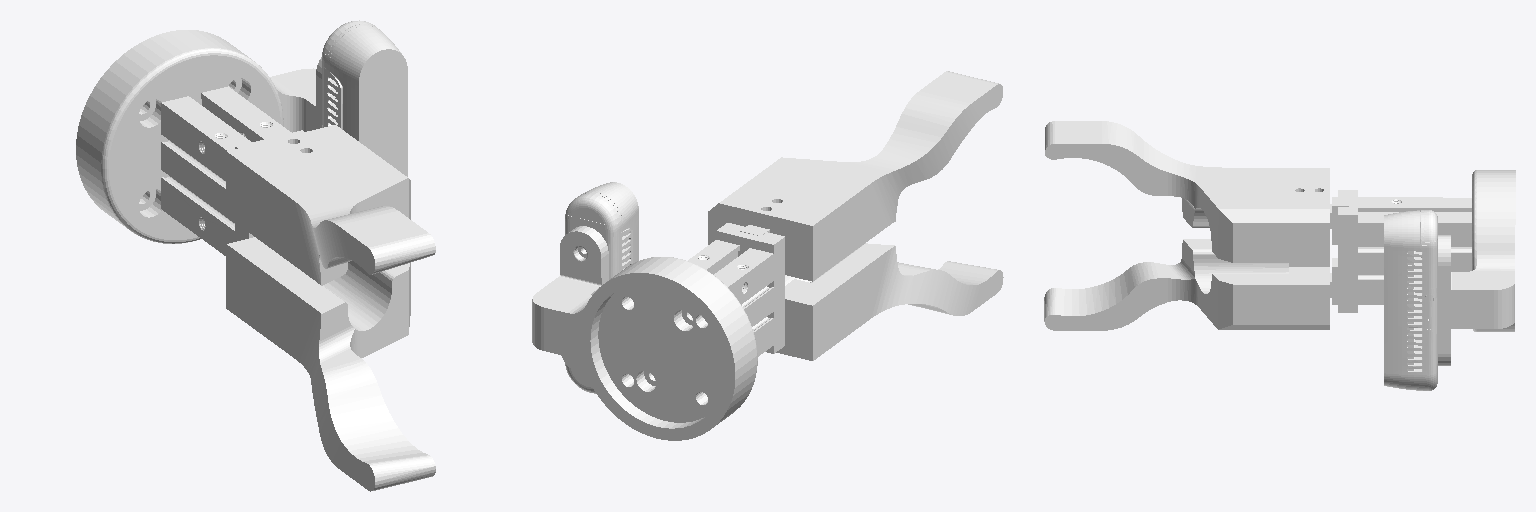
The robot description file, URDF, robot "ec63":
<?xml version="1.0" encoding="utf-8"?>
<robot name="ec63">
    <link name="world" />
    <joint name="world_joint" type="fixed">
        <origin xyz="0 0 0" rpy="0 0 0" />
        <parent link="world" />
        <child link="base_link" />
    </joint>
    <link name="base_link">
    <inertial>
        <origin xyz="6.6025E-05 1.6931E-05 0.036471" rpy="0 0 0" />
        <mass value="0.3647" />
        <inertia ixx="0.00059057" ixy="6.2306E-07" ixz="6.6029E-07" iyy="0.00058934" iyz="-4.8028E-08"
            izz="0.00074656" />
    </inertial>
    <visual>
        <origin xyz="0 0 0" rpy="0 0 0" />
        <geometry>
            <mesh filename="package://elite_description/meshes/ec63/base_link.STL" />
        </geometry>
        <material name="">
            <color rgba="0.79216 0.81961 0.93333 1" />
        </material>
    </visual>
    <collision>
        <origin xyz="0 0 0" rpy="0 0 0" />
        <geometry>
            <mesh filename="package://elite_description/meshes/ec63/base_link.STL" />
        </geometry>
    </collision>
    </link>
    <link name="link1">
    <inertial>
        <origin xyz="-5.9693298609962E-07 0.00718798730554815 0.00130597011750025" rpy="0 0 0" />
        <mass value="1.0468989469595" />
        <inertia ixx="0.00131622835302873" ixy="1.33626024644229E-08" ixz="1.22267487012503E-08"
            iyy="0.00121041697616178" iyz="-0.000167494836949108" izz="0.00140200332966305" />
    </inertial>
    <visual>
        <origin xyz="0 0 0" rpy="0 0 0" />
        <geometry>
            <mesh filename="package://elite_description/meshes/ec63/link1.STL" />
        </geometry>
        <material name="">
            <color rgba="1 1 1 1" />
        </material>
    </visual>
    <collision>
        <origin xyz="0 0 0" rpy="0 0 0" />
        <geometry>
            <mesh filename="package://elite_description/meshes/ec63/link1.STL" />
        </geometry>
    </collision>
    </link>
    <joint name="joint1" type="revolute">
        <origin xyz="0 0 0.14" rpy="0 0 0" />
        <parent link="base_link" />
        <child link="link1" />
        <axis xyz="0 0 1" />
        <limit lower="-6.2832" upper="6.2832" effort="90" velocity="3.3161" />
    </joint>
    <link name="link2">
    <inertial>
        <origin xyz="0.13499 -8.1271E-07 0.12053" rpy="0 0 0" />
        <mass value="2.6439" />
        <inertia ixx="0.0032939" ixy="-2.7429E-08" ixz="-3.997E-09" iyy="0.0044238" iyz="-1.4367E-07" izz="0.004596" />
    </inertial>
    <visual>
        <origin xyz="0 0 0" rpy="0 0 0" />
        <geometry>
            <mesh filename="package://elite_description/meshes/ec63/link2.STL" />
        </geometry>
        <material name="">
            <color rgba="1 1 1 1" />
        </material>
    </visual>
    <collision>
        <origin xyz="0 0 0" rpy="0 0 0" />
        <geometry>
            <mesh filename="package://elite_description/meshes/ec63/link2.STL" />
        </geometry>
    </collision>
    </link>
    <joint name="joint2" type="revolute">
        <origin xyz="0 0 0" rpy="-1.5708 0 0" />
        <parent link="link1" />
        <child link="link2" />
        <axis xyz="0 0 1" />
        <limit lower="-6.2832" upper="6.2832" effort="90" velocity="3.3161" />
    </joint>
    <link name="link3">
    <inertial>
        <origin xyz="0.12895 -1.241E-05 0.011444" rpy="0 0 0" />
        <mass value="1.4492" />
        <inertia ixx="0.0012764" ixy="-3.0636E-08" ixz="7.348E-05" iyy="0.0020529" iyz="-2.1502E-07" izz="0.0020542" />
    </inertial>
    <visual>
        <origin xyz="0 0 0" rpy="0 0 0" />
        <geometry>
            <mesh filename="package://elite_description/meshes/ec63/link3.STL" />
        </geometry>
        <material name="">
            <color rgba="1 1 1 1" />
        </material>
    </visual>
    <collision>
        <origin xyz="0 0 0" rpy="0 0 0" />
        <geometry>
            <mesh filename="package://elite_description/meshes/ec63/link3.STL" />
        </geometry>
    </collision>
    </link>
    <joint name="joint3" type="revolute">
        <origin xyz="0.27 0 0" rpy="0 0 0" />
        <parent link="link2" />
        <child link="link3" />
        <axis xyz="0 0 1" />
        <limit lower="-2.7925" upper="2.7925" effort="90" velocity="3.3161" />
    </joint>
    <link name="link4">
    <inertial>
        <origin xyz="-5.2284E-07 -0.00070291 0.097494" rpy="0 0 0" />
        <mass value="0.53436" />
        <inertia ixx="0.00041486" ixy="-4.4868E-09" ixz="-1.0989E-09" iyy="0.0004403" iyz="-5.8283E-05"
            izz="0.00037669" />
    </inertial>
    <visual>
        <origin xyz="0 0 0" rpy="0 0 0" />
        <geometry>
            <mesh filename="package://elite_description/meshes/ec63/link4.STL" />
        </geometry>
        <material name="">
            <color rgba="1 1 1 1" />
        </material>
    </visual>
    <collision>
        <origin xyz="0 0 0" rpy="0 0 0" />
        <geometry>
            <mesh filename="package://elite_description/meshes/ec63/link4.STL" />
        </geometry>
    </collision>
    </link>
    <joint name="joint4" type="revolute">
        <origin xyz="0.256 0 0" rpy="0 0 0" />
        <parent link="link3" />
        <child link="link4" />
        <axis xyz="0 0 1" />
        <limit lower="-6.2832" upper="6.2832" effort="20" velocity="4.5379" />
    </joint>
    <link name="link5">
    <inertial>
        <origin xyz="-5.2273E-07 -0.0012029 0.091994" rpy="0 0 0" />
        <mass value="0.53436" />
        <inertia ixx="0.00041486" ixy="-4.4901E-09" ixz="-1.1099E-09" iyy="0.0004403" iyz="-5.8283E-05"
            izz="0.00037669" />
    </inertial>
    <visual>
        <origin xyz="0 0 0" rpy="0 0 0" />
        <geometry>
            <mesh filename="package://elite_description/meshes/ec63/link5.STL" />
        </geometry>
        <material name="">
            <color rgba="1 1 1 1" />
        </material>
    </visual>
    <collision>
        <origin xyz="0 0 0" rpy="0 0 0" />
        <geometry>
            <mesh filename="package://elite_description/meshes/ec63/link5.STL" />
        </geometry>
    </collision>
    </link>
    <joint name="joint5" type="revolute">
        <origin xyz="0 0 0.103" rpy="-1.5708 0 0" />
        <parent link="link4" />
        <child link="link5" />
        <axis xyz="0 0 1" />
        <limit lower="-6.2832" upper="6.2832" effort="20" velocity="4.5379" />
    </joint>
    <link name="link6">
    <inertial>
        <origin xyz="7.5563E-12 2.6132E-05 -0.021697" rpy="0 0 0" />
        <mass value="0.16467" />
        <inertia ixx="7.7607E-05" ixy="1.4753E-10" ixz="1.0602E-13" iyy="7.7808E-05" iyz="-7.8486E-08"
            izz="0.00011753" />
    </inertial>
    <visual>
        <origin xyz="0 0 0" rpy="0 0 0" />
        <geometry>
            <mesh filename="package://elite_description/meshes/ec63/link6.STL" />
        </geometry>
        <material name="">
            <color rgba="0.79216 0.81961 0.93333 1" />
        </material>
    </visual>
    <collision>
        <origin xyz="0 0 0" rpy="0 0 0" />
        <geometry>
            <mesh filename="package://elite_description/meshes/ec63/link6.STL" />
        </geometry>
    </collision>
    </link>
    <joint name="joint6" type="revolute">
        <origin xyz="0 0.089 0.098" rpy="-1.5708 0 0" />
        <parent link="link5" />
        <child link="link6" />
        <axis xyz="0 0 1" />
        <limit lower="-6.2832" upper="6.2832" effort="20" velocity="4.5379" />
    </joint>
    <link name="flan" />
    <joint name="flan_joint" type="fixed">
        <origin xyz="0 0 0" rpy="0 0 0" />
        <parent link="link6" />
        <child link="flan" />
    </joint>
    <link name="camera_mount">
    <inertial>
      <origin xyz="-0.0051042 0.00088494 -0.00052221" rpy="0 0 0" />
      <mass value="0.010466" />
      <inertia ixx="0.00061835" ixy="0.00024116" ixz="-6.2654E-05" iyy="1.00441" iyz="1.3293E-05" izz="1.000143" />
    </inertial>
    <visual>
      <origin xyz="0 0 0" rpy="0 0 0" />
      <geometry>
        <mesh filename="package://elite_description/meshes/ec66/Intel_D435_clamp(1).STL" scale='0.001 0.001 0.001' />
      </geometry>
      <material name="">
        <color rgba="1 1 1 1" />
      </material>
    </visual>
    <collision>
      <origin xyz="0 0 0" rpy="0 0 0" />
      <geometry>
        <mesh filename="package://elite_description/meshes/ec66/Intel_D435_clamp(1).STL" scale='0.001 0.001 0.001' />
      </geometry>
    </collision>
    </link>
    <joint name="camera_mount_joint" type="fixed">
      <origin xyz="0 0 0" rpy="1.57 0 0"  />
      <parent link="flan" />
      <child link="camera_mount" />
      <axis xyz="0 0 0" />
    </joint> 

    <link name="camera_lin">
    <inertial>
      <origin xyz="-0.0051042 0.00088494 -0.00052221" rpy="0 0 0" />
      <mass value="0.001" />
      <inertia ixx="0.0000061835" ixy="0.0000024116" ixz="-6.2654E-07" iyy="1.00441" iyz="1.3293E-05" izz="1.000143" />
    </inertial>
    </link>
    <joint name="camera_lin" type="fixed">
      <origin xyz="0.065 0.035 0.00" rpy="-1.57 3.14 0" />
      <parent link="camera_mount" />
      <child link="camera_lin" />
      <axis xyz="0 0 0" />
    </joint> 
</robot>

--- What the picture shows (computed from the rendered views, not written in the file) ---
Views: 3 orthographic renders of the robot side by side, from view 1: azimuth 30°, elevation 25°; view 2: azimuth 150°, elevation 25°; view 3: azimuth 270°, elevation 25°.
Robot: ec63 — 11 links, 10 joints (6 revolute, 4 fixed); root link world; default pose: every joint at zero.
Visible links, largest first — view 1: camera_mount; view 2: camera_mount; view 3: camera_mount.
Boxes of the visible links, x1,y1,x2,y2 form: camera_mount: (76, 20, 435, 491); camera_mount: (532, 71, 1003, 440); camera_mount: (1044, 121, 1515, 390).
Bounding box of the posed robot: 0.1065 × 0.2181 × 0.0956 m (x, y, z).
Meshes: 8 distinct files referenced, 1 mesh visuals loaded (1 binary STL); not drawn: 7 (reference not matched to a file when rendering).